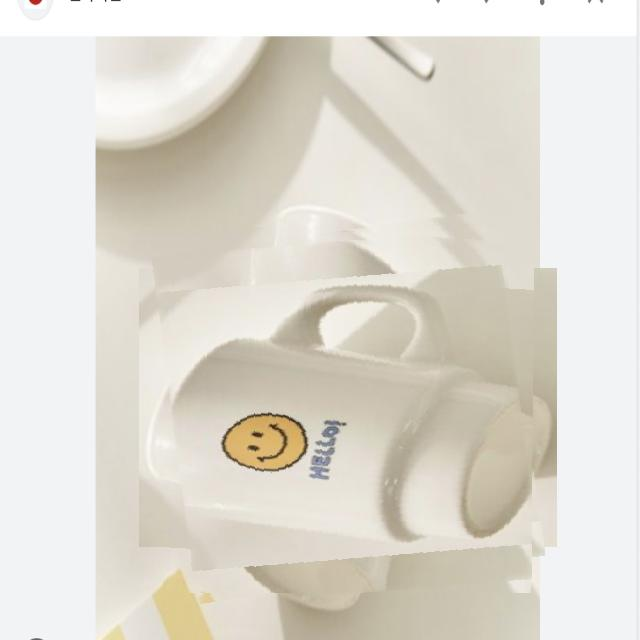recyclable: (163, 221, 534, 593)
